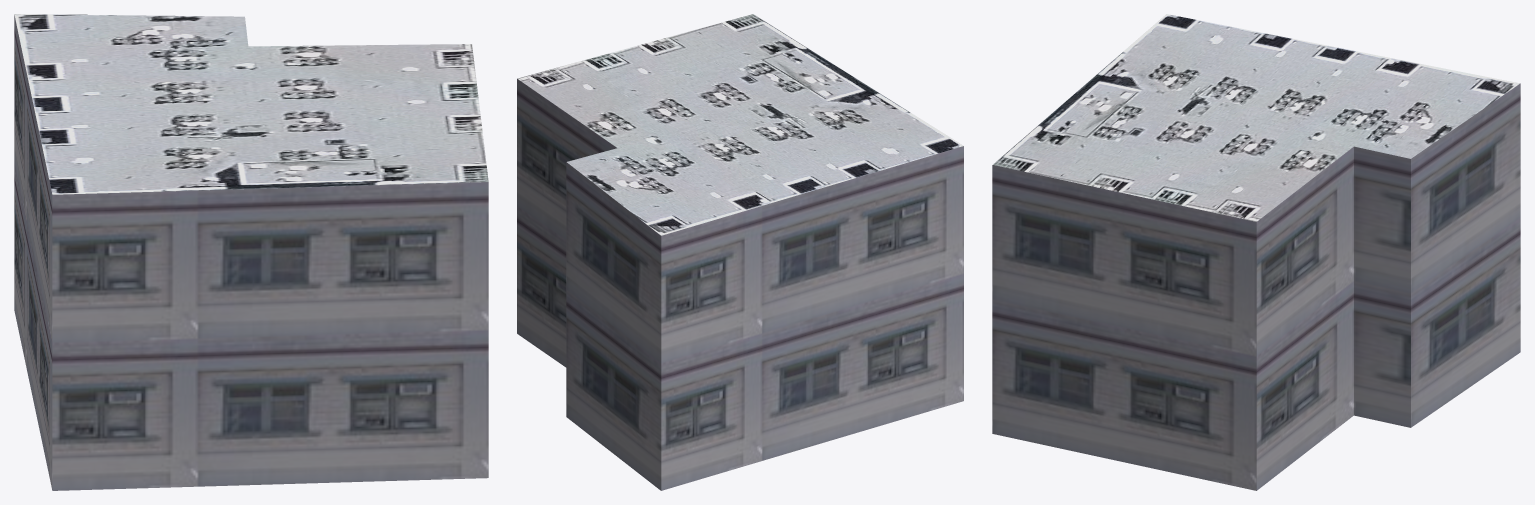
The model's file is ResTex__2086.fbx.
3 renders of one model, left to right at view 1: azimuth 30°, elevation 25°; view 2: azimuth 150°, elevation 25°; view 3: azimuth 270°, elevation 25°, orthographic. The views are drawn at different scales.
Visible parts, largest first — view 1: CityEngineMaterial_1_m, CityEngineMaterial_4_m; view 2: CityEngineMaterial_1_m, CityEngineMaterial_4_m; view 3: CityEngineMaterial_1_m, CityEngineMaterial_4_m.
Boxes of the visible parts, x1=… form: CityEngineMaterial_1_m: x1=14, y1=15, x2=488, y2=490; CityEngineMaterial_4_m: x1=14, y1=14, x2=488, y2=194; CityEngineMaterial_1_m: x1=517, y1=79, x2=963, y2=490; CityEngineMaterial_4_m: x1=517, y1=14, x2=963, y2=235; CityEngineMaterial_1_m: x1=992, y1=83, x2=1520, y2=490; CityEngineMaterial_4_m: x1=993, y1=14, x2=1519, y2=221.
Bounding box in the file's own units: 9.95 × 6 × 10.67.
2 materials, 2 textured.
